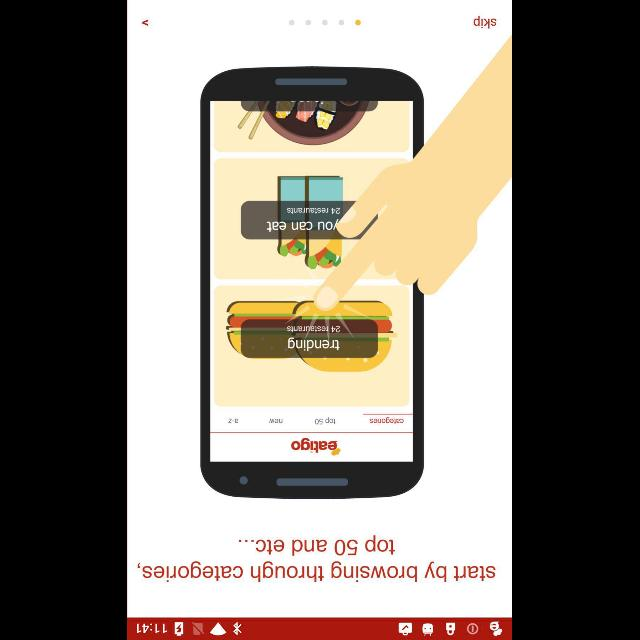icon: (143, 19, 149, 26)
image: (201, 37, 513, 500)
pageindicator: (290, 20, 362, 26)
text: (138, 534, 496, 582), (474, 16, 498, 28)
uppertaskbar: (128, 617, 512, 639)
